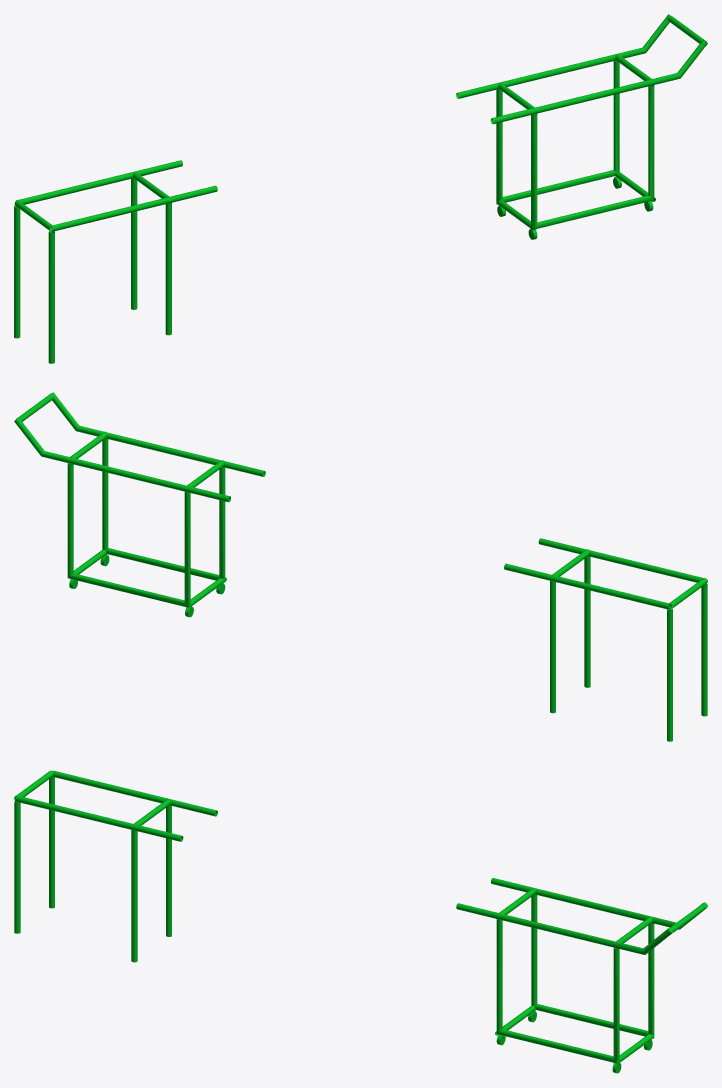
File: Vaccinebase.FBX
3 renders of one model, top to bottom at view 1: azimuth 30°, elevation 25°; view 2: azimuth 150°, elevation 25°; view 3: azimuth 330°, elevation 25°, orthographic.
Visible parts, largest first — view 1: VaccineHolder; view 2: VaccineHolder; view 3: VaccineHolder.
Part boxes in pixels (x1,y1,x2,y2): VaccineHolder: (14, 14, 707, 363); VaccineHolder: (14, 392, 707, 741); VaccineHolder: (14, 770, 707, 1073).
Size of the model in its own units: 421 by 100 by 42.28.
